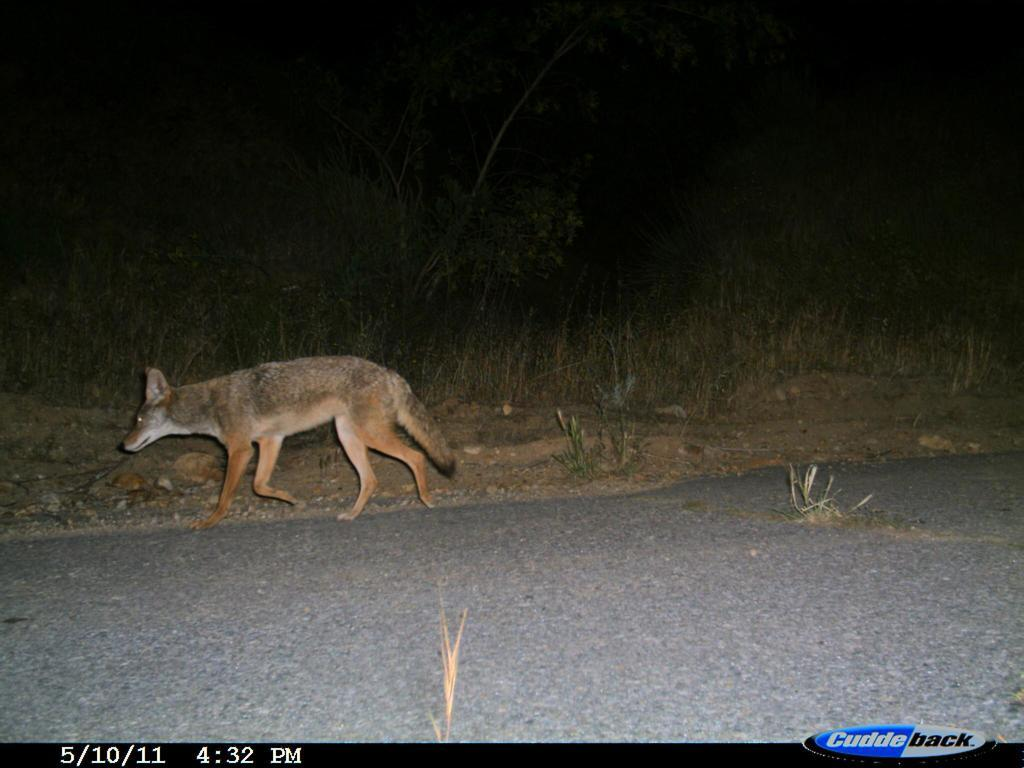coyote: (112, 354, 466, 525)
